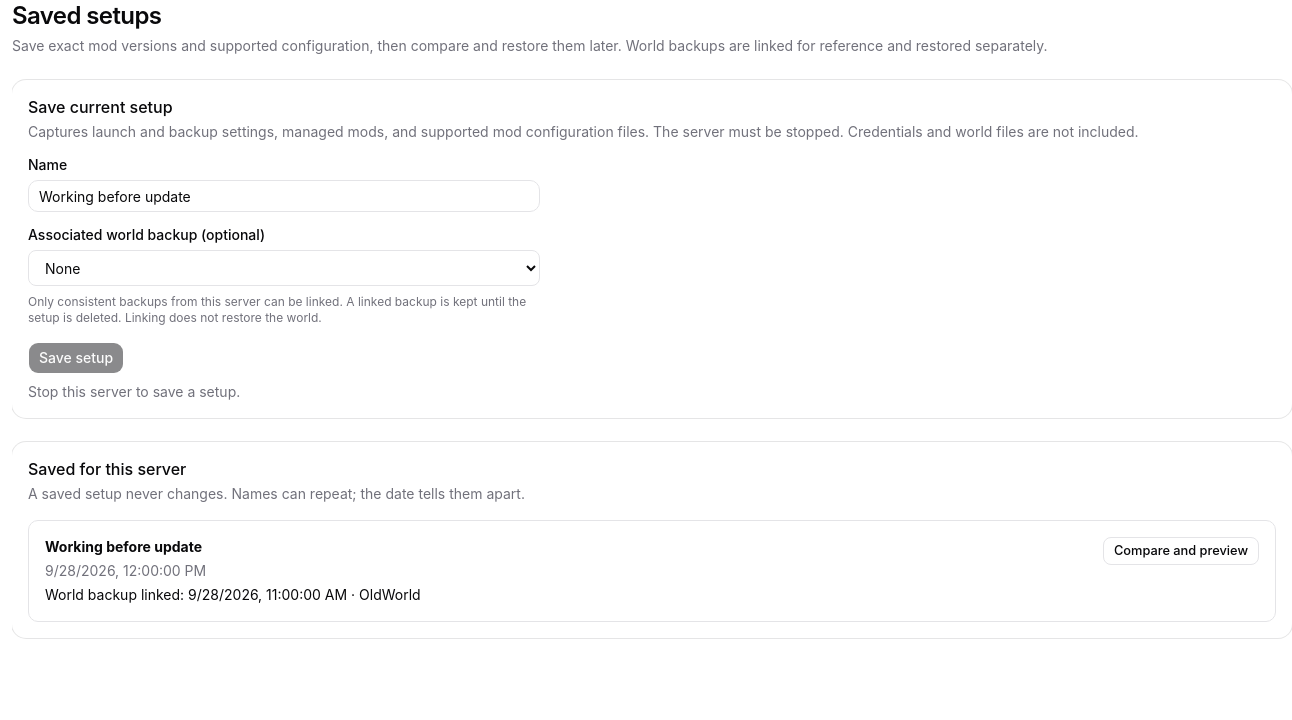
Test case: Saved setups › keeps save and restore unavailable while the server is running
The image size is (1292, 720).
Expected: the button "Save setup" is disabled, [28, 342, 124, 374]
Click the button "Compare and preview". click: (1181,551)
box: [1103, 537, 1259, 565]
(page scrolled)
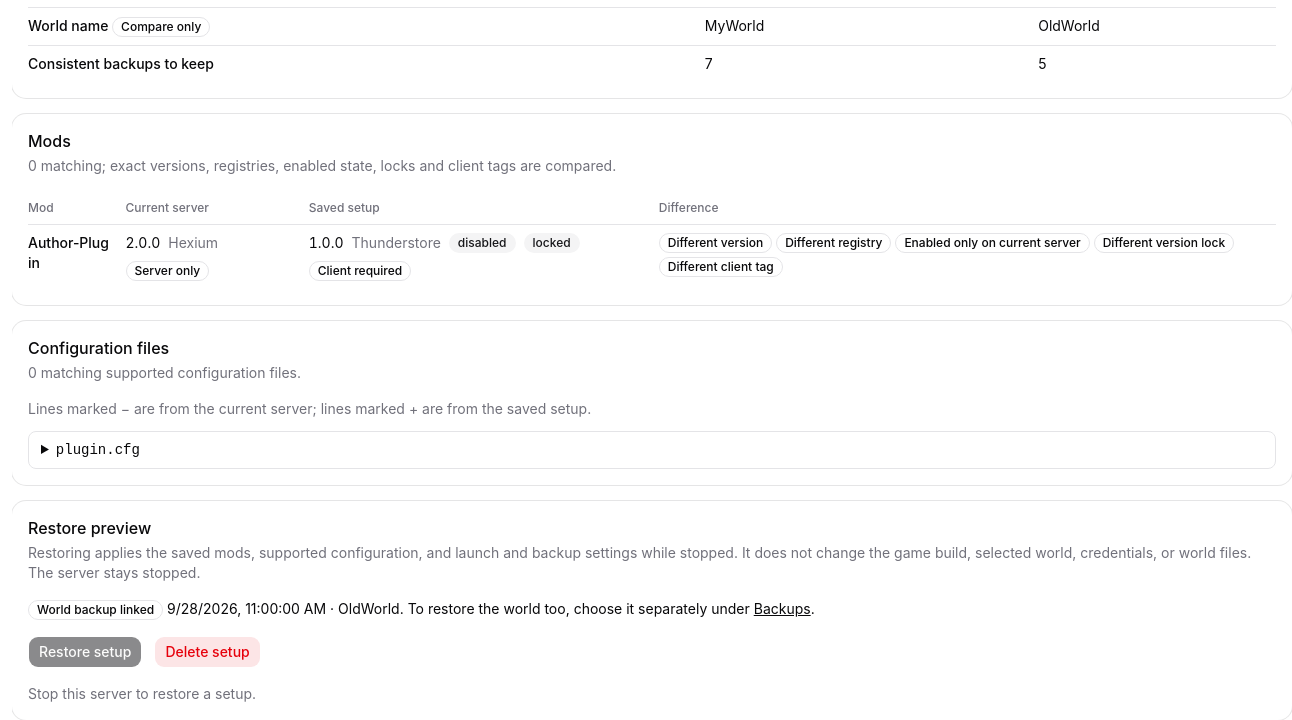
Now the button "Restore setup" is disabled, box [28, 636, 142, 668]
Now the text "Stop this server to restore a setup." is shown, box [28, 685, 256, 702]
